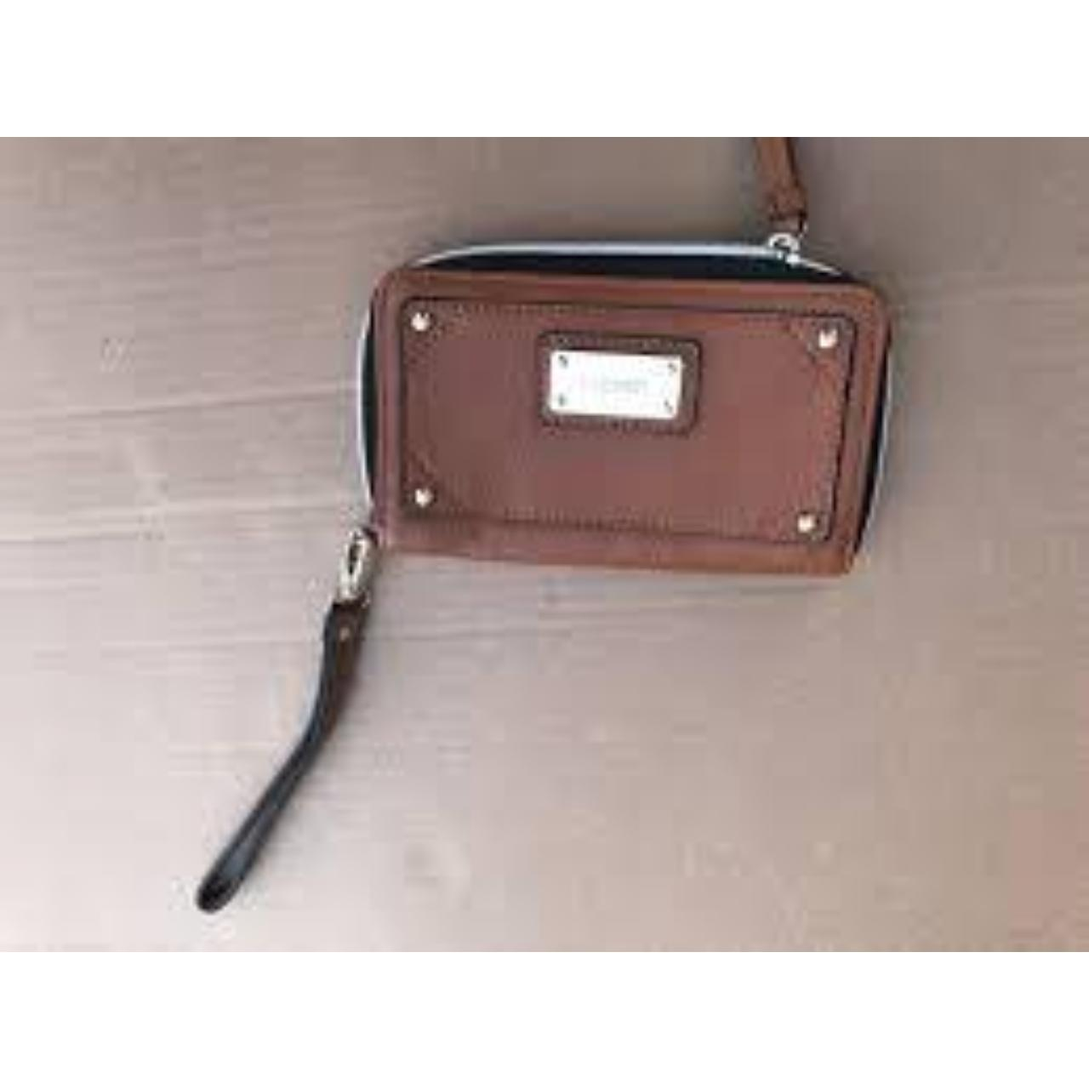wallet: (381, 266, 885, 585)
